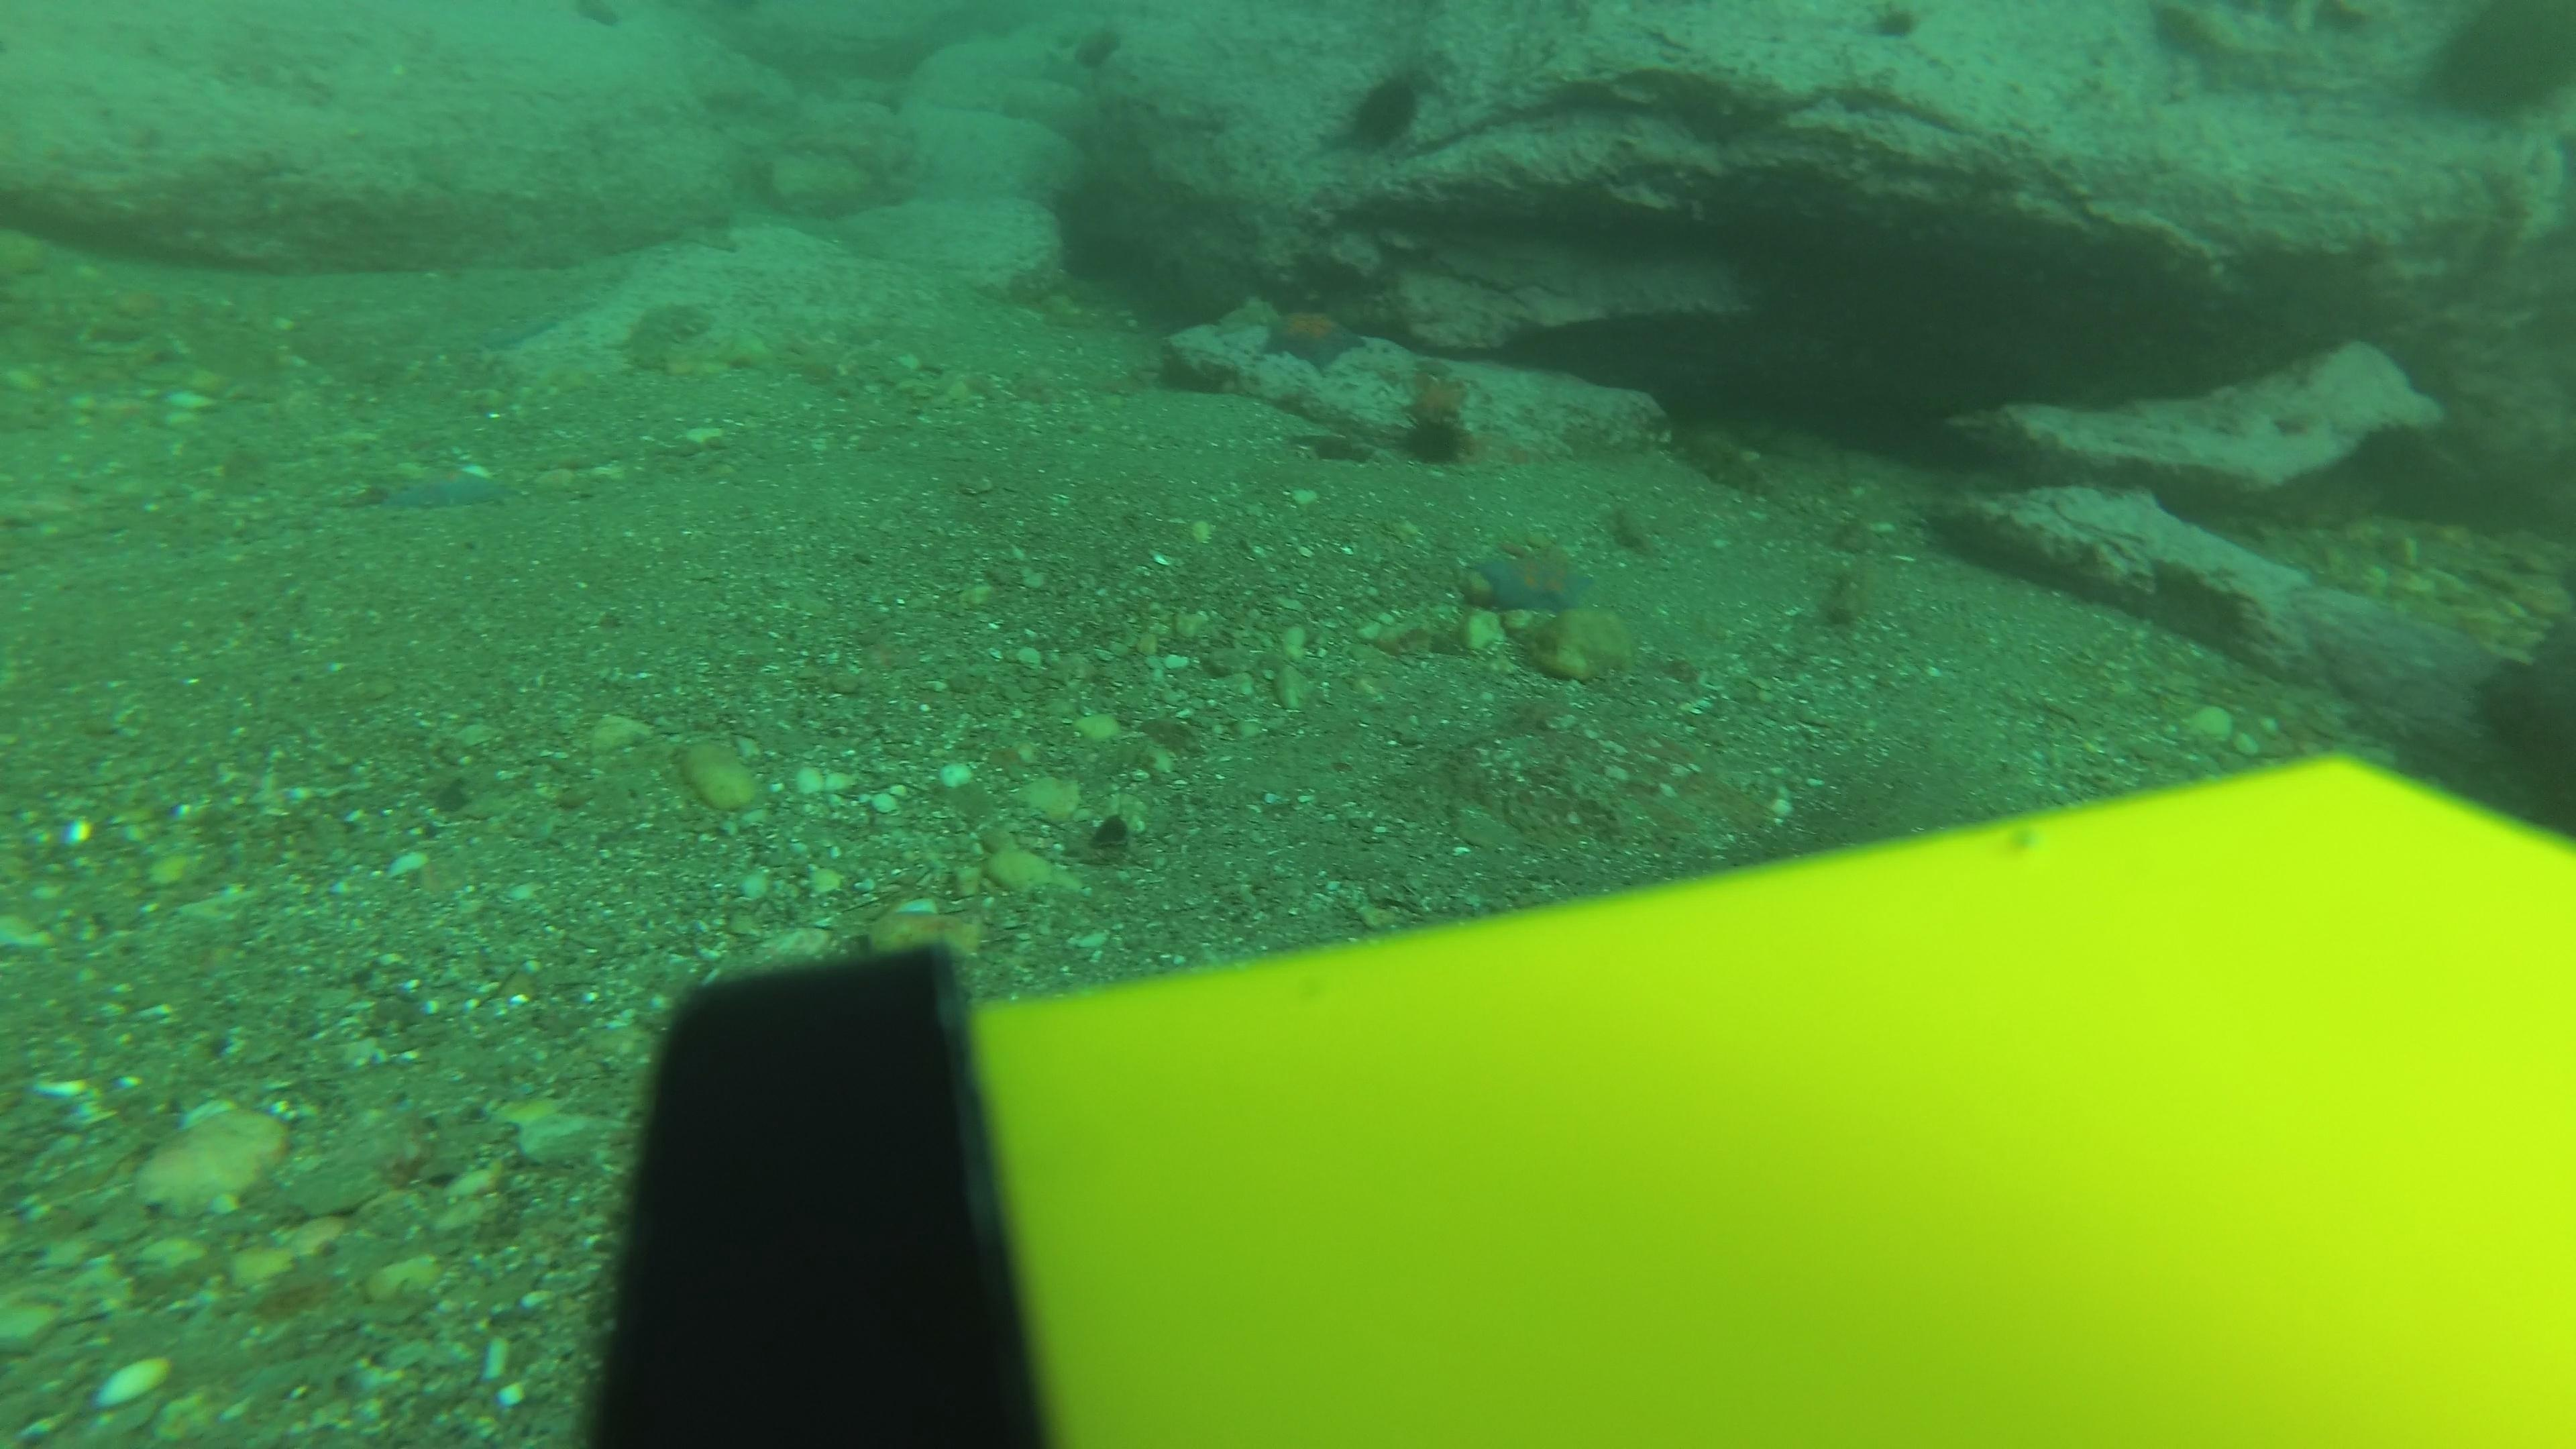echinus: (2415, 2, 2572, 131), (1325, 62, 1440, 161), (1401, 412, 1470, 471), (1054, 21, 1109, 74), (1868, 0, 1921, 53), (579, 0, 628, 42)
holothurian: (616, 299, 708, 372)
starfish: (1461, 534, 1599, 619), (1249, 295, 1376, 375), (370, 455, 517, 518), (1408, 372, 1474, 426)
